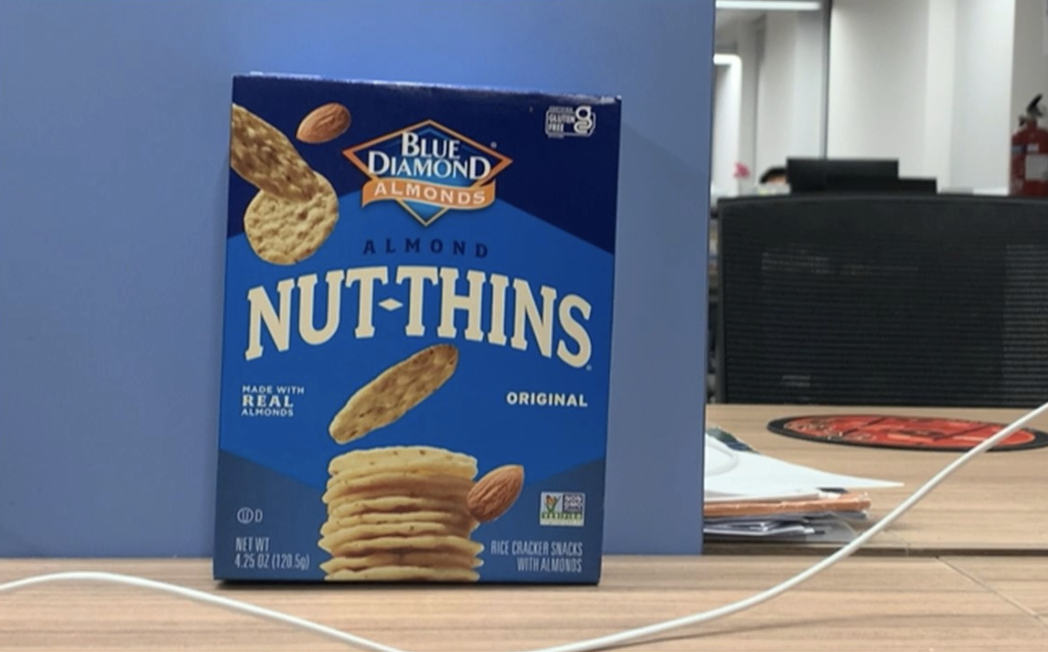crackers_150g: (236, 96, 592, 576)
